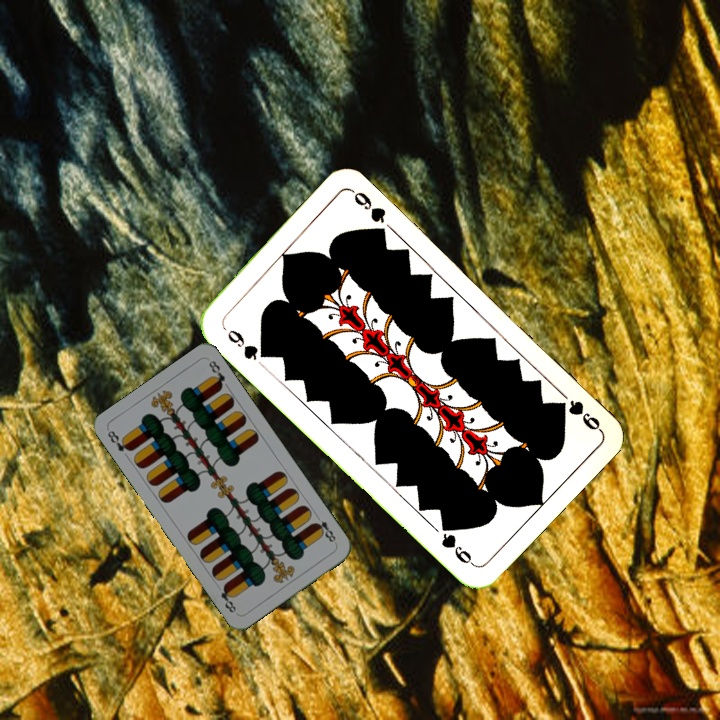E8: (310, 511, 339, 547), (103, 426, 134, 455)
G9: (552, 396, 603, 434), (223, 325, 271, 363)
